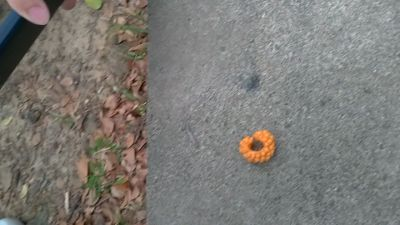eggs: (238, 129, 278, 167)
